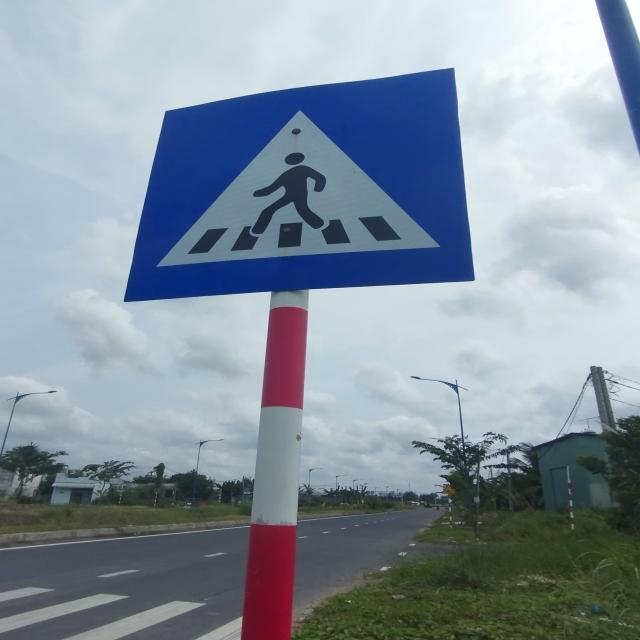Giao_Nhau_Duong_Uu_Tien: (124, 68, 474, 299)
